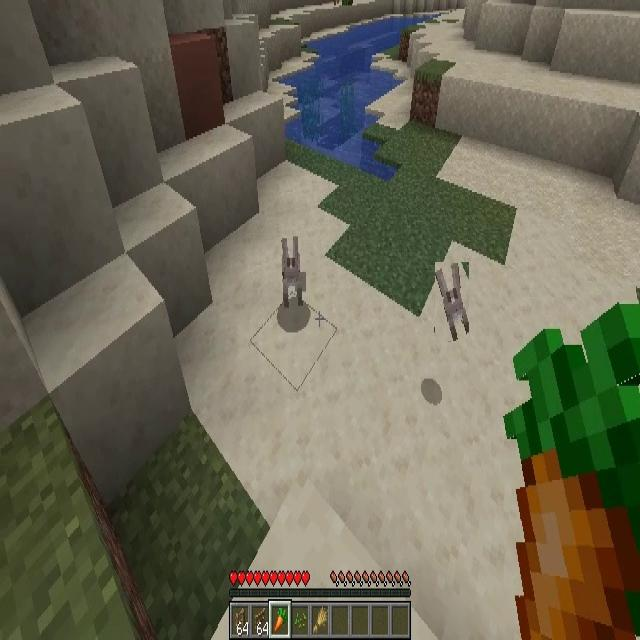rabbit: (435, 262, 469, 341), (280, 237, 304, 310)
